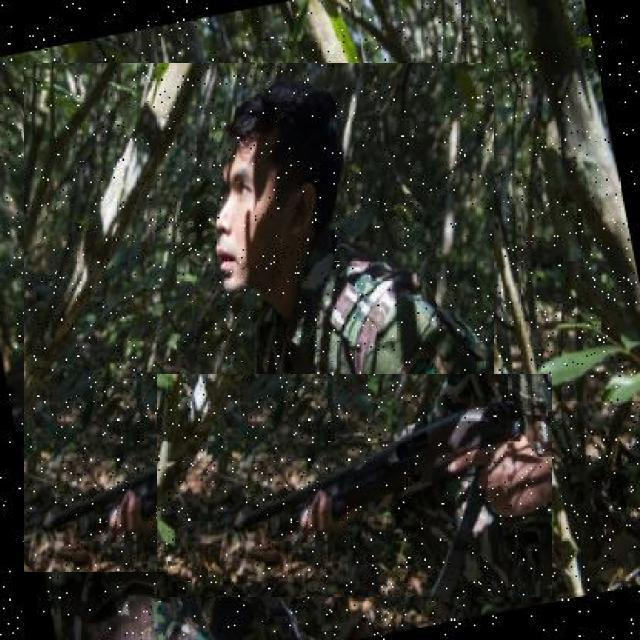poacher: (24, 63, 494, 572)
weapon: (157, 374, 552, 597)
